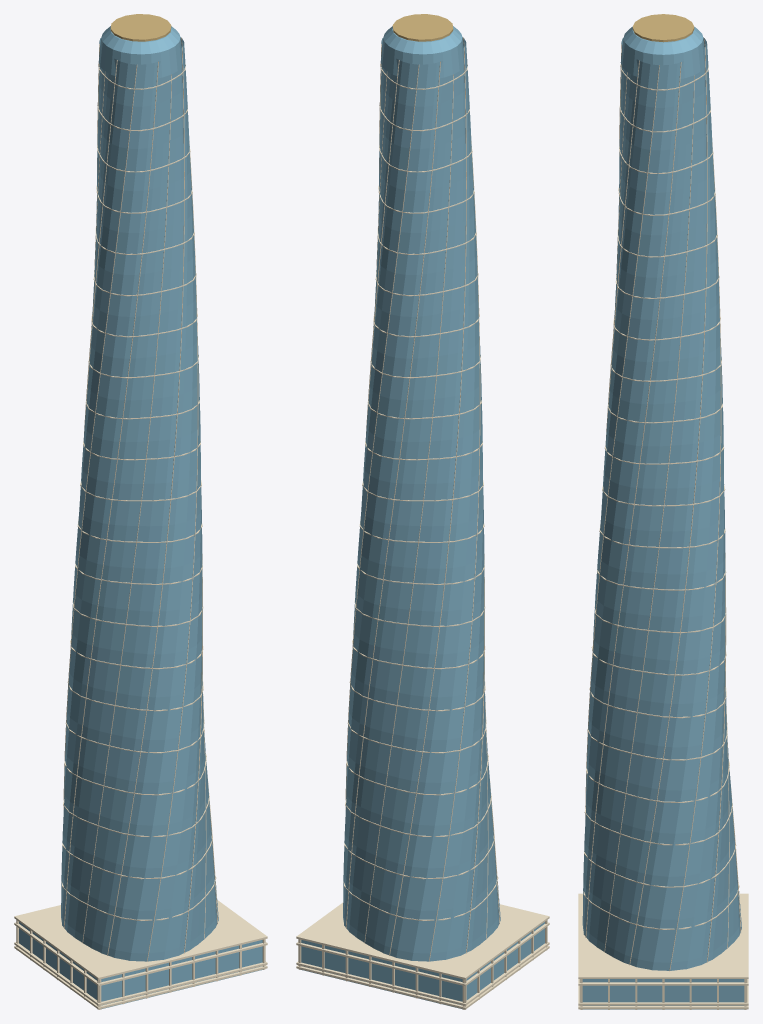
File: shanghai-lod1.glb
3 renders of one model, left to right at view 1: azimuth 30°, elevation 25°; view 2: azimuth 150°, elevation 25°; view 3: azimuth 270°, elevation 25°, orthographic.
Parts seen in each view (by area): view 1: shanghai_architecture; view 2: shanghai_architecture; view 3: shanghai_architecture.
Part boxes in pixels (bbox=[...]): shanghai_architecture: bbox=[14, 14, 267, 1009]; shanghai_architecture: bbox=[296, 14, 549, 1009]; shanghai_architecture: bbox=[578, 14, 748, 1009].
Size of the model in its own units: 21.7 by 114 by 18.7.
